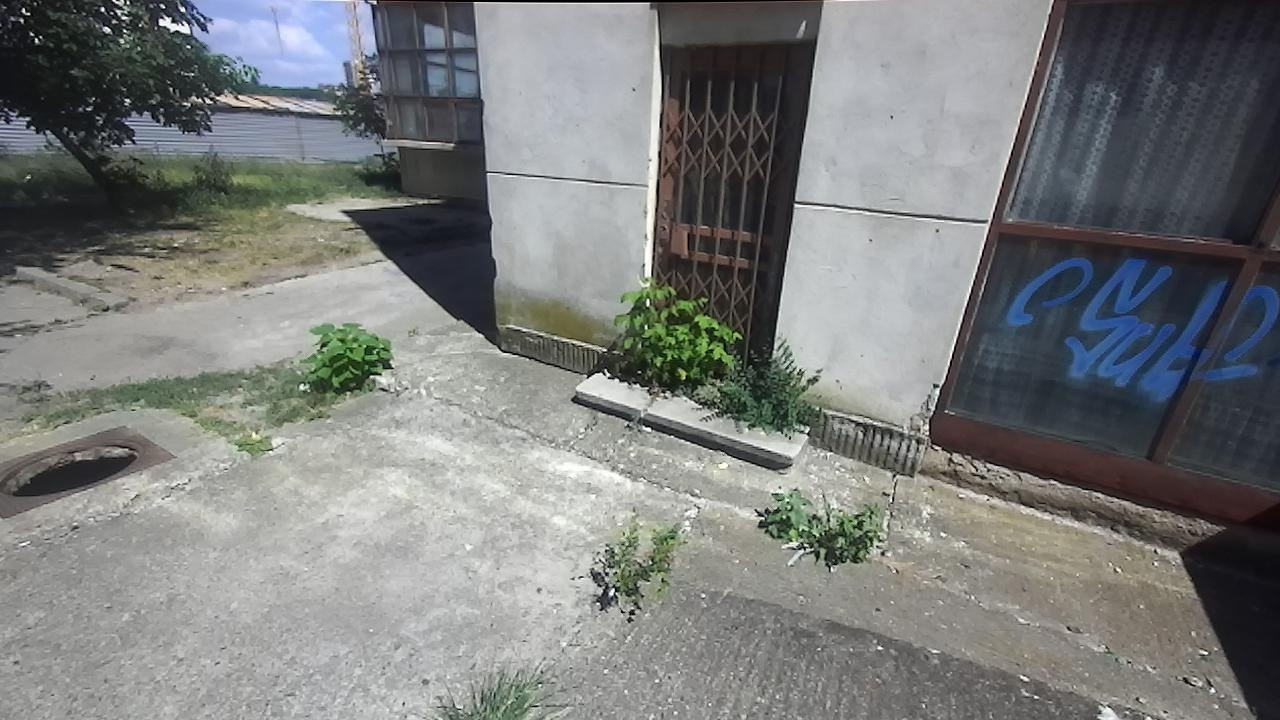drain: (0, 434, 151, 501)
